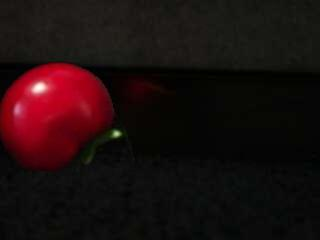Tomato: (2, 63, 124, 173)
